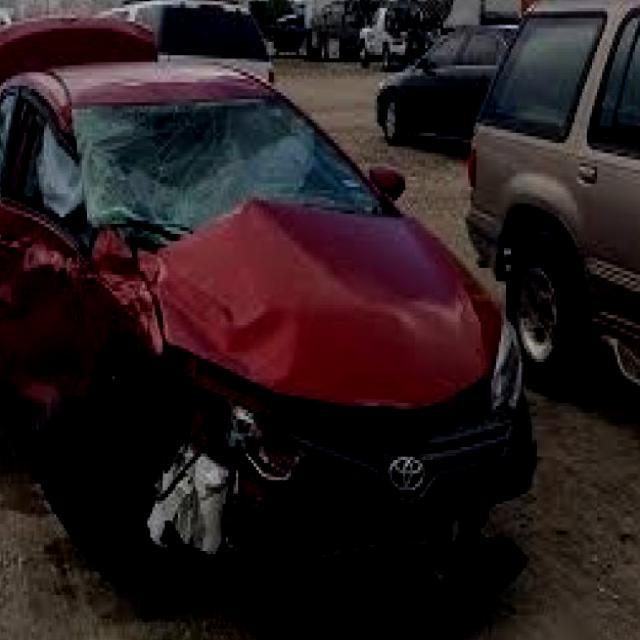accident: (0, 61, 549, 623)
